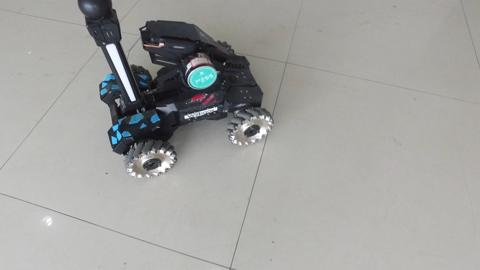chariot: (60, 23, 317, 217)
